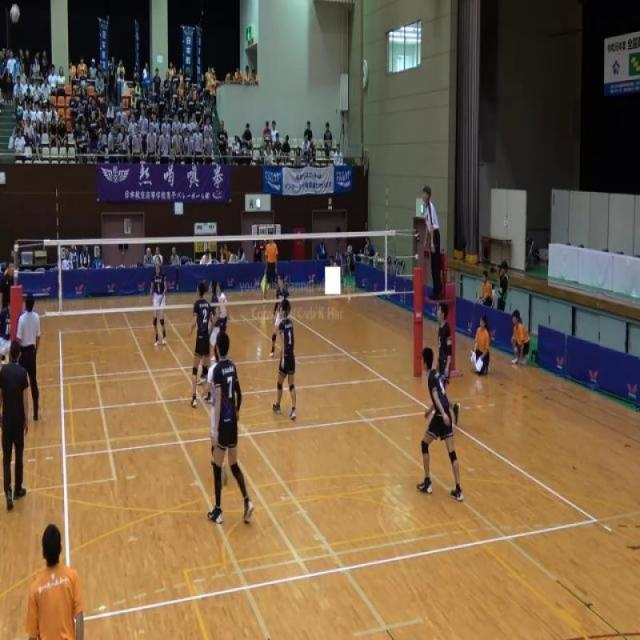volleyball: (9, 2, 21, 26)
